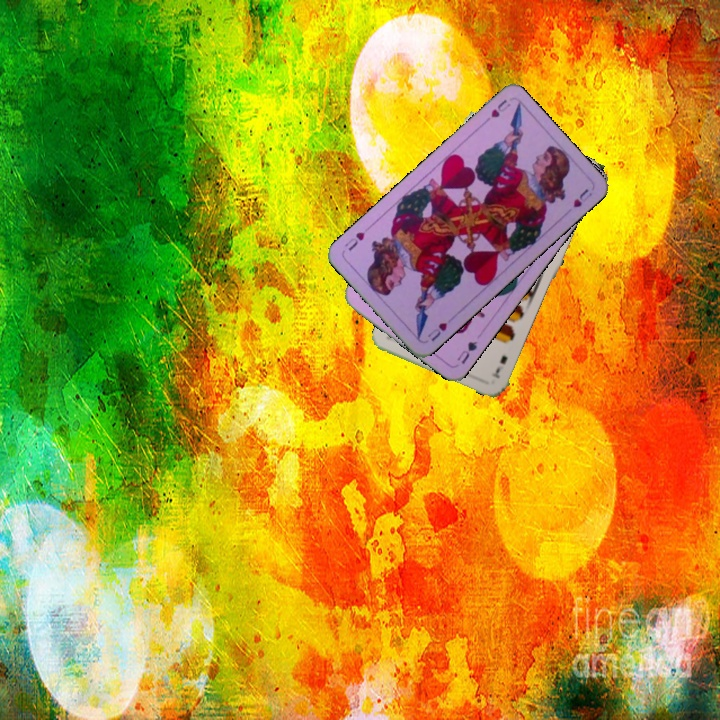E7: (489, 351, 510, 381)
GU: (453, 337, 480, 367)
HU: (479, 95, 513, 127), (423, 318, 450, 344)
